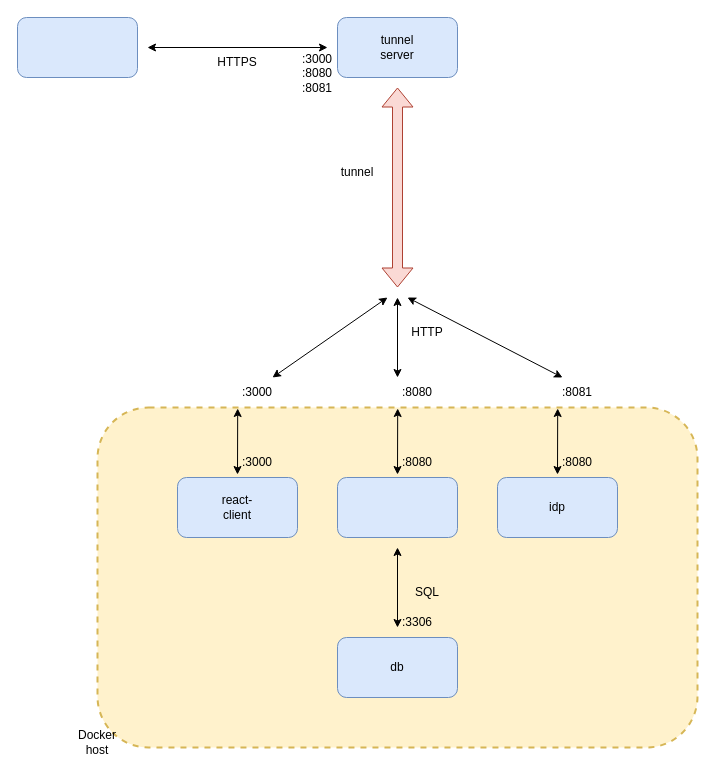
This 716x775 diagram has some shape labels left out. The centre of each missing label's shape, as x and y in pixels:
"browser" goes at (x=77, y=47).
"java-services" goes at (x=397, y=507).
